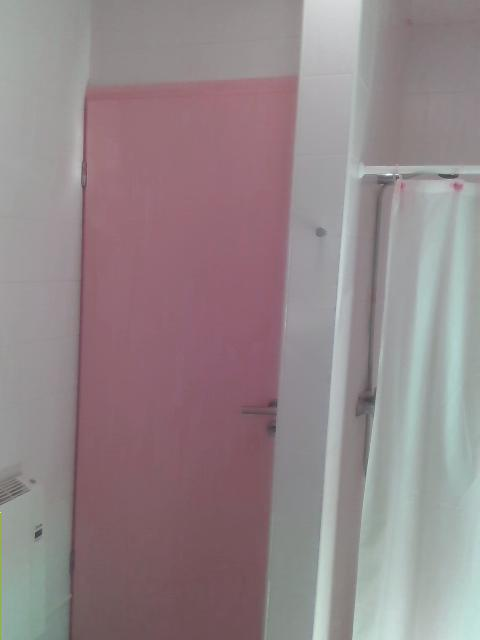closed_door: (72, 78, 294, 639)
